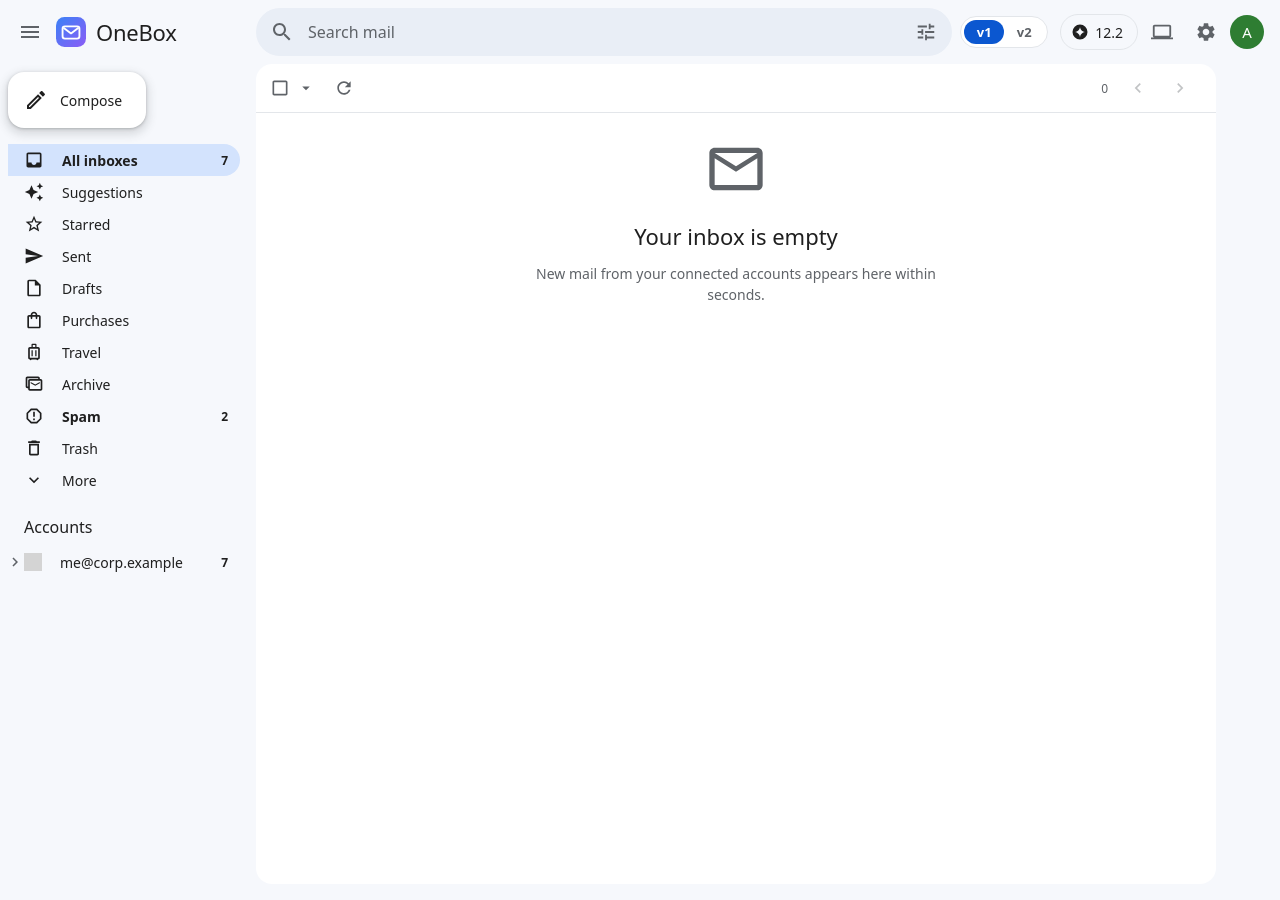
Scenario: AppShell › expands an account to show the folders found on its server
Click the button named "Show folders for me@corp.example" at (15, 562), box [6, 553, 24, 571]
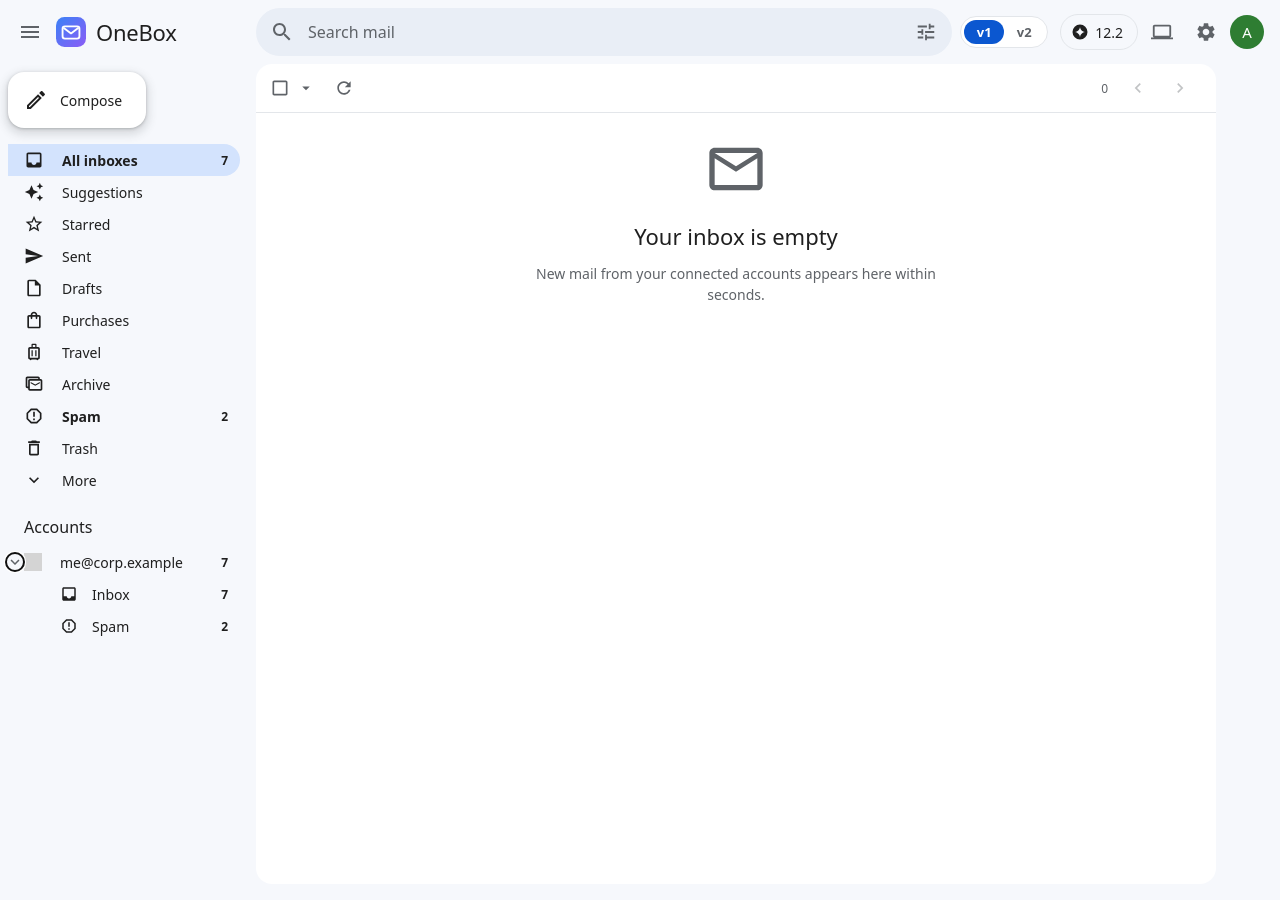
Now the text named "2 unread in me@corp.example Spam" is shown, box [221, 618, 228, 634]
Click the link "Spam 2" below "me@corp.example" at (111, 626), box [60, 616, 228, 636]
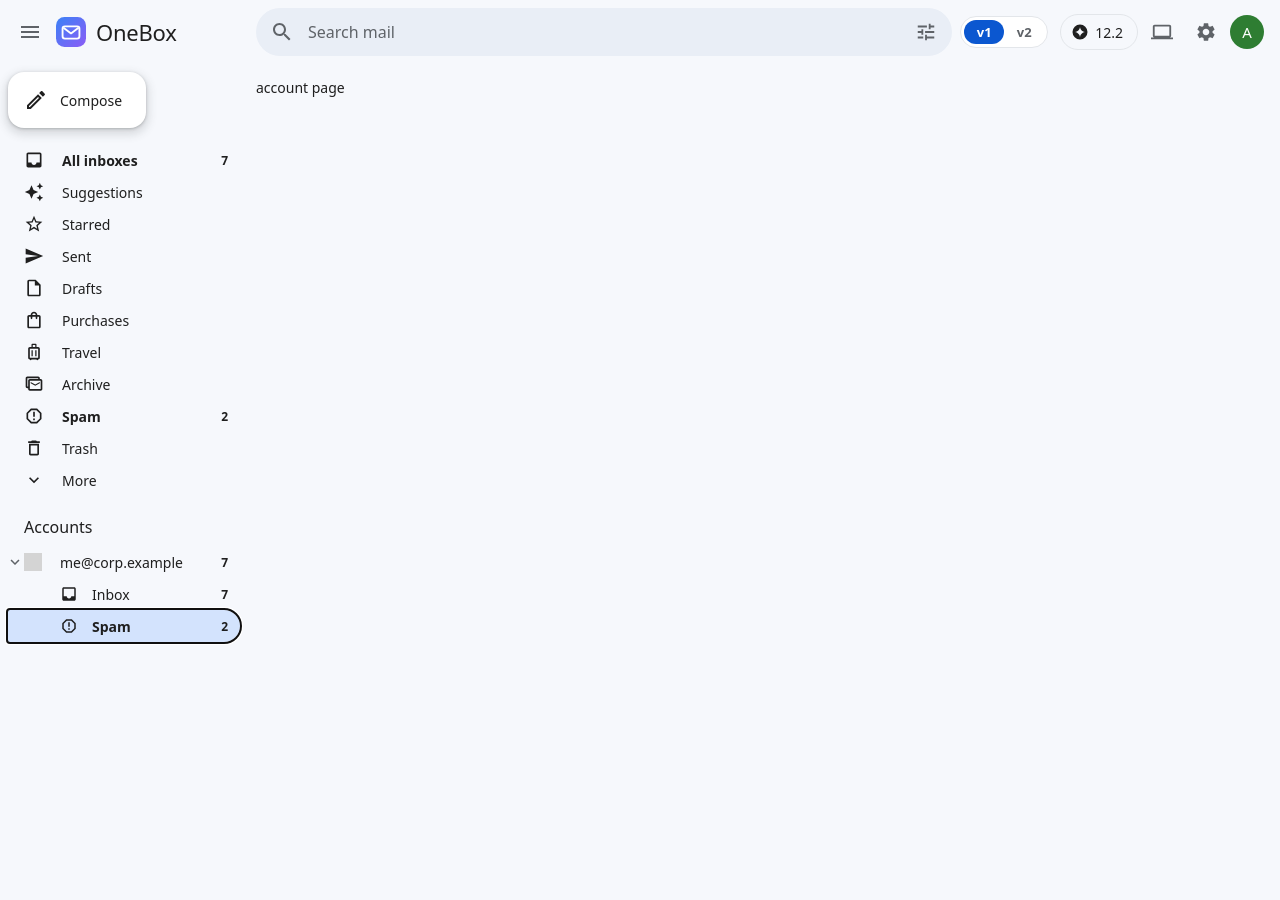
Now the text "account page" is shown, box [256, 78, 345, 97]
